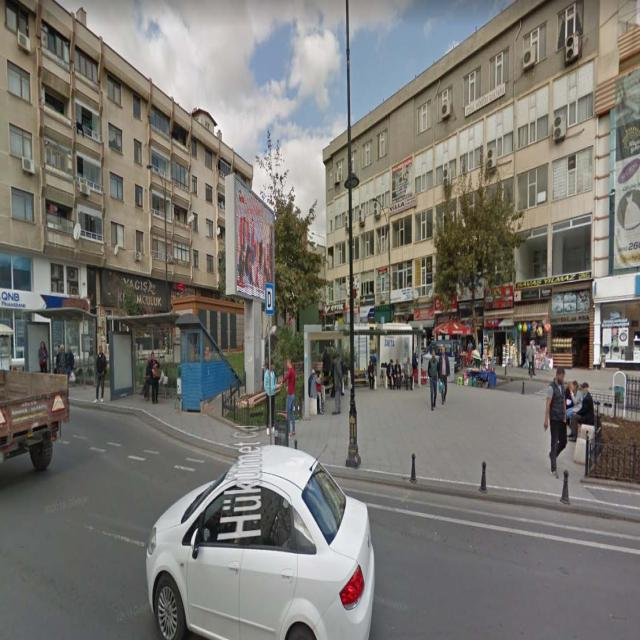durak: (265, 282, 274, 313)
